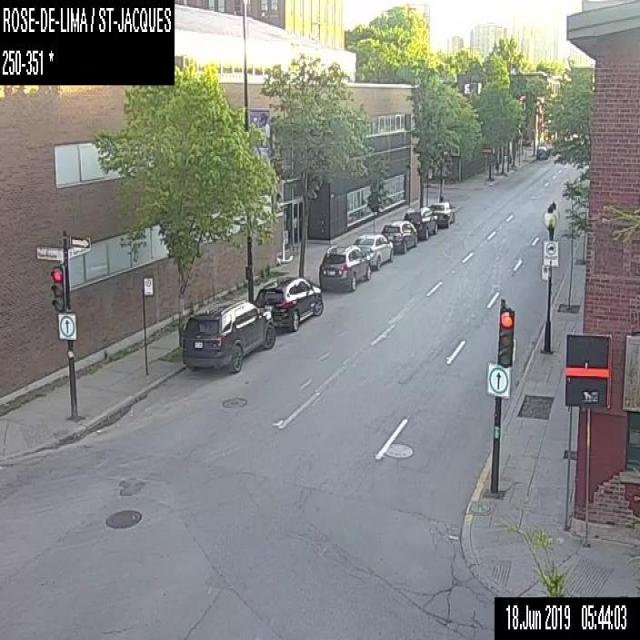vehicle: (180, 293, 274, 373), (256, 272, 322, 331), (318, 243, 370, 290), (352, 231, 394, 267), (402, 204, 438, 240), (382, 218, 418, 252), (428, 197, 454, 226), (534, 143, 551, 164)
